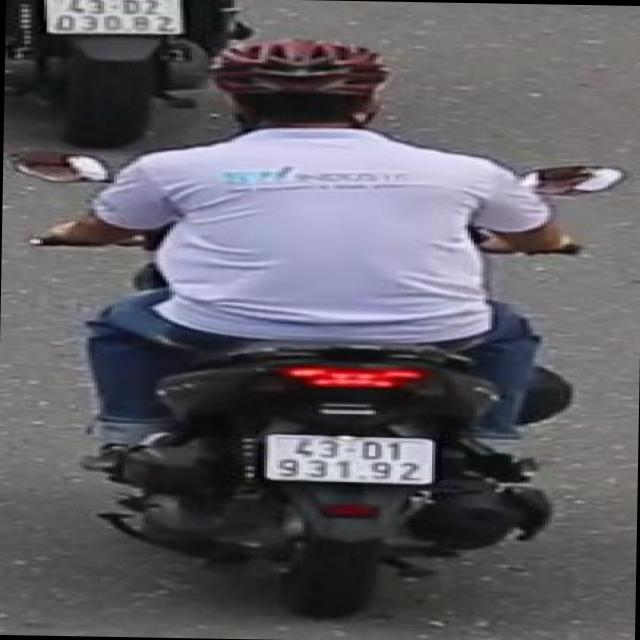LP: (256, 430, 442, 490)
helmet: (204, 36, 393, 130)
